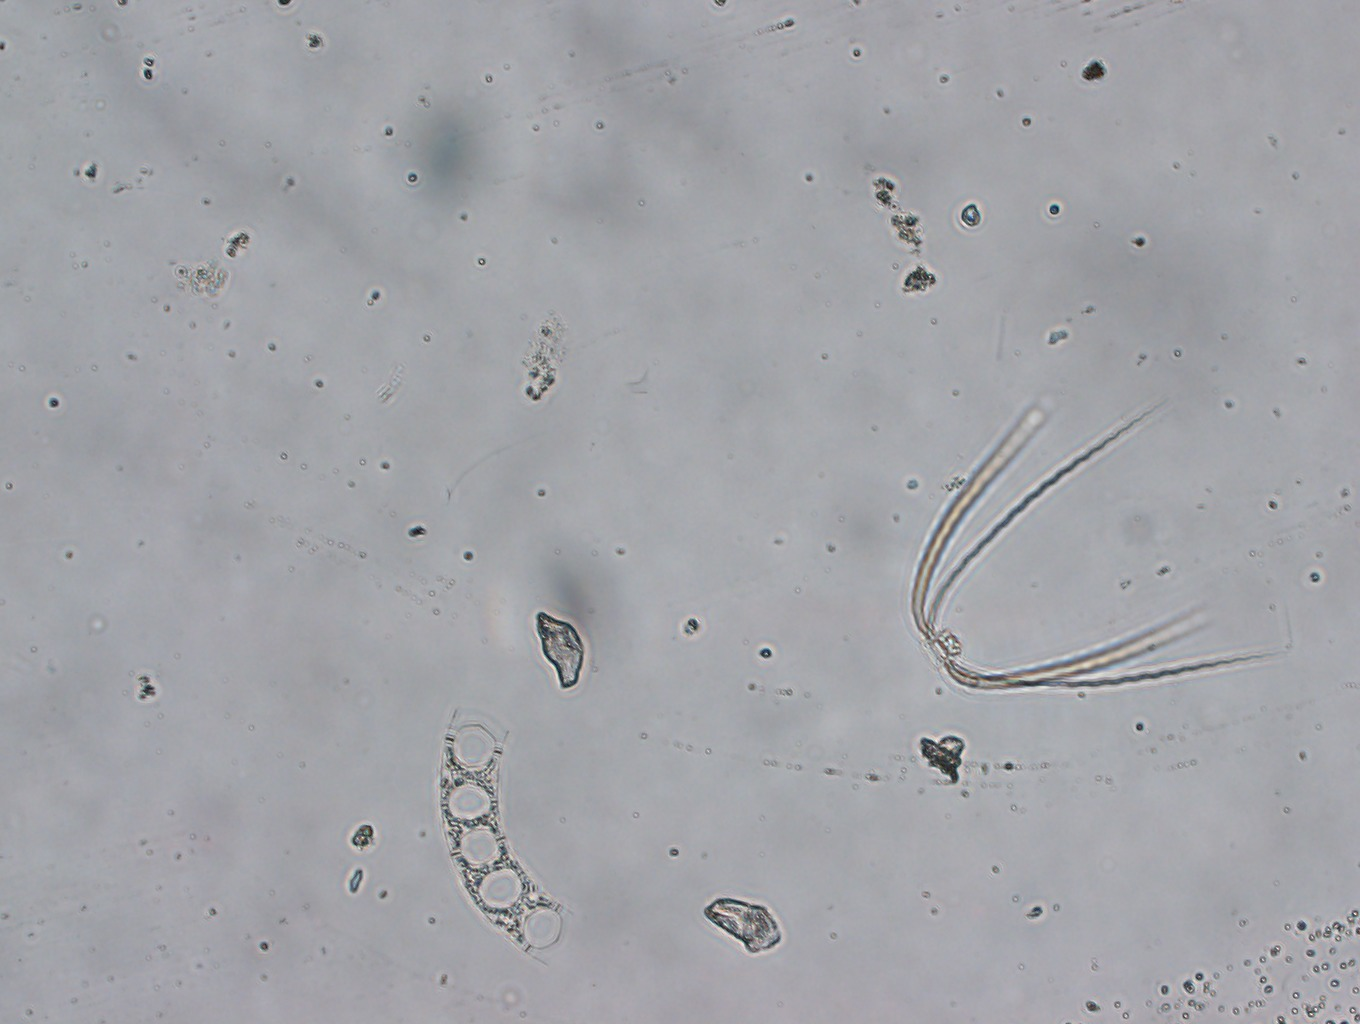chaetoceros: (912, 393, 1274, 692)
eucampia: (436, 706, 575, 967)
